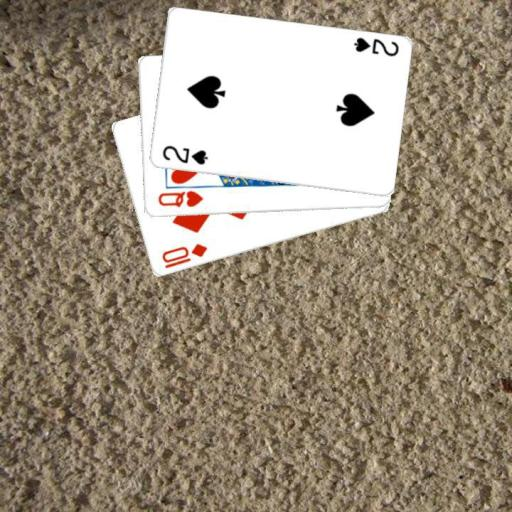10D: (159, 241, 209, 271)
2S: (159, 142, 209, 167), (350, 34, 400, 58)
QH: (154, 188, 204, 209)
